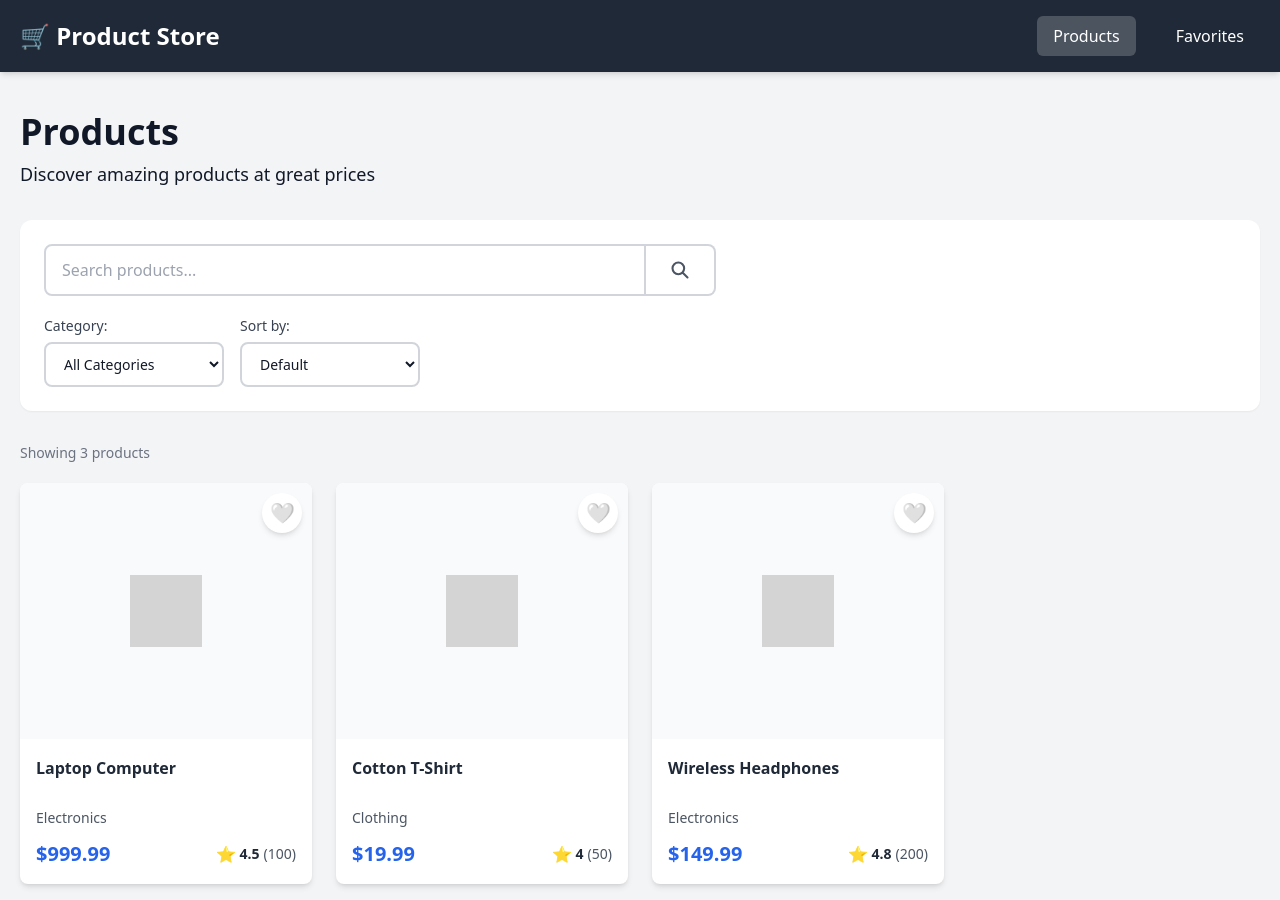
Test case: Product Flow Integration Tests › should filter products by search query
Check: the heading "Laptop Computer" is shown, box [36,757,176,779]
Type "laptop" into the field with placeholder "Search products..." at (345, 270), box [44,244,646,296]
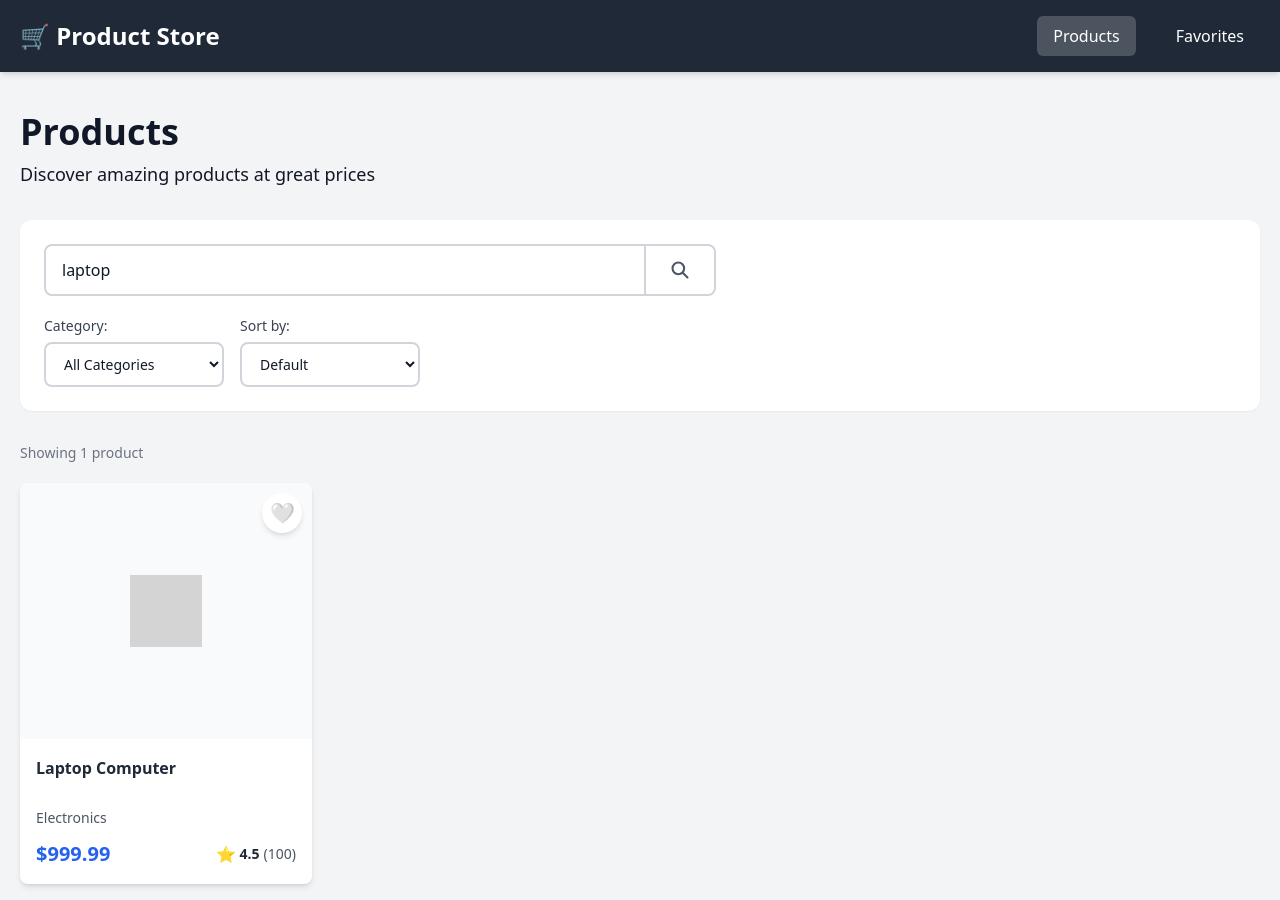
Check: the heading "Laptop Computer" is shown, box [36,757,176,779]
Check: the heading "Cotton T-Shirt" is gone
